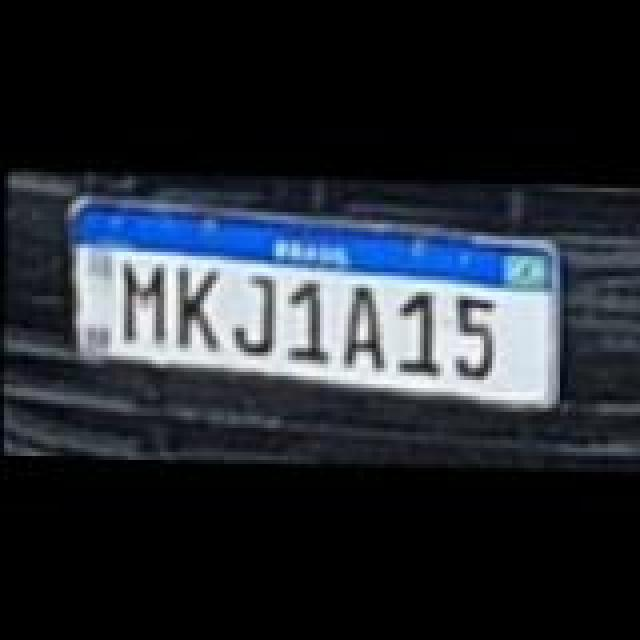1: (392, 288, 444, 372), (286, 276, 334, 360)
5: (452, 294, 504, 378)
A: (342, 282, 390, 366)
J: (230, 268, 278, 348)
K: (172, 264, 224, 348)
M: (116, 256, 168, 340)
